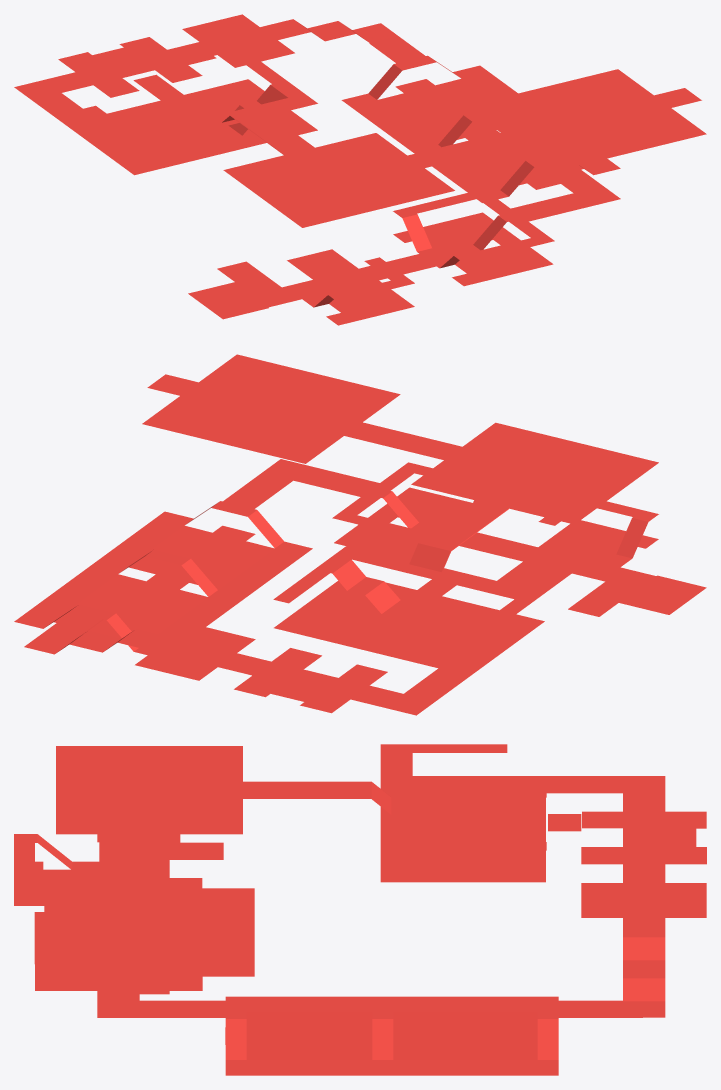
File: 0926_npc_route.fbx
The picture shows the model from 3 angles, top to bottom: view 1: azimuth 30°, elevation 25°; view 2: azimuth 150°, elevation 25°; view 3: azimuth 270°, elevation 25°; orthographic projection. The views are drawn at different scales.
Parts seen in each view (by area): view 1: npc_route_0926; view 2: npc_route_0926; view 3: npc_route_0926.
Boxes of the visible parts, <box> form: npc_route_0926: <box>14,14,706,325</box>; npc_route_0926: <box>14,354,706,715</box>; npc_route_0926: <box>14,744,706,1075</box>.
Bounding box in the file's own units: 9565 × 1654 × 9861.
